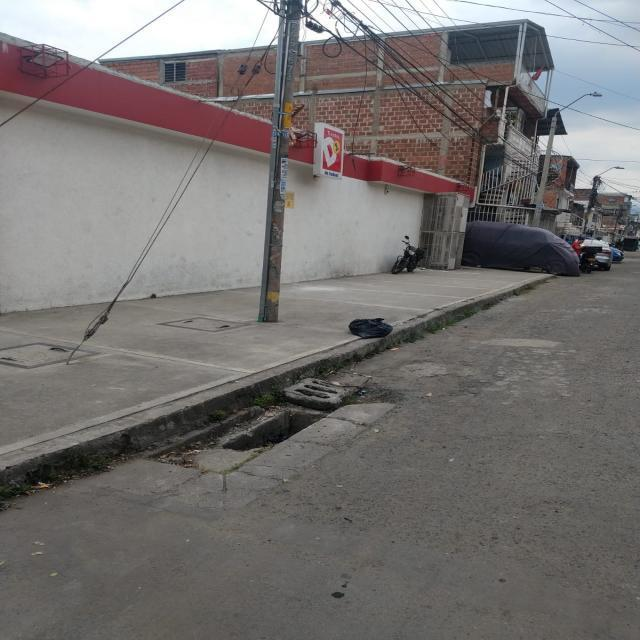Trashbag: (346, 315, 405, 344)
